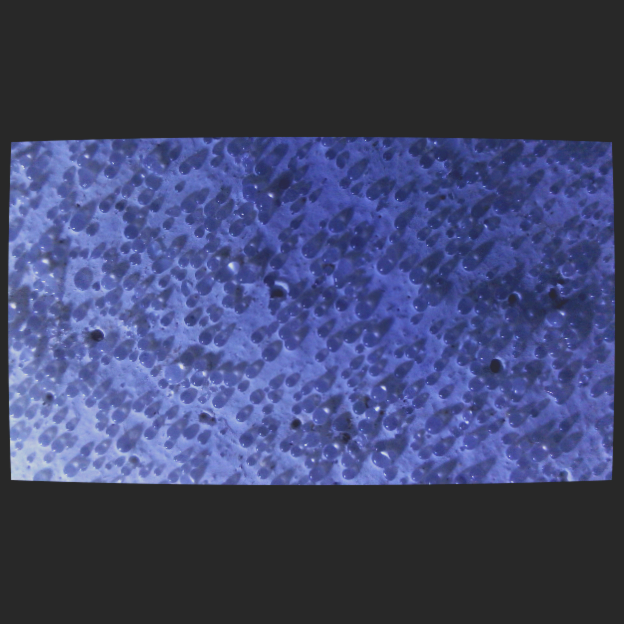GrassBeadSeg: (13, 145, 595, 440), (75, 155, 588, 459), (83, 182, 579, 470), (75, 154, 469, 476), (128, 136, 610, 362), (45, 163, 432, 436), (31, 204, 550, 402), (112, 202, 467, 484), (176, 163, 511, 460), (15, 276, 572, 453), (88, 172, 604, 363), (204, 166, 607, 401), (56, 187, 562, 369), (113, 202, 476, 445), (141, 178, 423, 481), (128, 152, 606, 329), (202, 137, 525, 393), (148, 179, 506, 408), (210, 145, 598, 356), (197, 257, 554, 483), (299, 203, 596, 474), (66, 172, 416, 397), (96, 201, 427, 419), (363, 187, 601, 476), (120, 212, 562, 366), (77, 318, 570, 456), (47, 151, 449, 315), (109, 159, 364, 415), (38, 213, 302, 458), (226, 224, 513, 445), (158, 159, 506, 340), (244, 168, 520, 395), (178, 199, 433, 435), (275, 136, 581, 328), (379, 139, 600, 403), (136, 193, 436, 385), (213, 194, 533, 372), (109, 152, 586, 271), (130, 224, 398, 431), (257, 213, 490, 437), (195, 263, 554, 404), (190, 193, 373, 462), (114, 145, 505, 270), (197, 302, 518, 449), (42, 263, 614, 343), (392, 190, 601, 398), (202, 136, 599, 245), (191, 298, 498, 433), (331, 196, 601, 346), (212, 158, 529, 285), (201, 219, 600, 316), (164, 248, 609, 331), (104, 346, 495, 437), (190, 196, 507, 300), (189, 166, 497, 268), (347, 359, 587, 484), (193, 260, 322, 481), (183, 146, 542, 225), (381, 152, 518, 357), (340, 247, 468, 463), (237, 329, 446, 455), (164, 372, 570, 435), (114, 338, 337, 452), (331, 201, 590, 298), (326, 219, 479, 383), (173, 151, 297, 348), (322, 150, 396, 479), (36, 388, 447, 447), (351, 263, 468, 470), (56, 149, 545, 198), (130, 187, 307, 322), (361, 221, 568, 331), (67, 152, 596, 195), (180, 394, 519, 461), (171, 180, 448, 259), (512, 194, 604, 430), (121, 225, 277, 362), (443, 244, 534, 474), (66, 186, 504, 232), (49, 246, 462, 294), (238, 218, 441, 312), (30, 241, 494, 280), (541, 188, 600, 459), (85, 255, 164, 455), (416, 156, 482, 392), (360, 332, 522, 427), (177, 258, 284, 401), (391, 217, 527, 327), (209, 370, 374, 458), (66, 385, 266, 457), (372, 301, 467, 451), (251, 274, 564, 319), (32, 168, 294, 221), (99, 152, 200, 273), (340, 413, 519, 480), (346, 237, 394, 471), (74, 187, 182, 290), (370, 355, 476, 450), (481, 180, 613, 255), (211, 372, 311, 467), (27, 155, 116, 261), (442, 331, 562, 404), (203, 281, 350, 340), (52, 150, 164, 225), (308, 400, 406, 484), (173, 160, 298, 225), (542, 281, 610, 391), (356, 143, 490, 197), (77, 329, 181, 396), (93, 410, 188, 481), (166, 417, 268, 482), (163, 281, 202, 448), (64, 389, 191, 440), (180, 364, 268, 437), (431, 224, 474, 372), (289, 328, 384, 394), (290, 405, 389, 468), (410, 374, 589, 408), (493, 182, 521, 394), (63, 338, 148, 407), (442, 204, 516, 283), (447, 142, 503, 238), (249, 150, 361, 198), (398, 405, 466, 484), (204, 397, 294, 456), (254, 370, 321, 448), (244, 309, 300, 400), (121, 280, 193, 347), (234, 268, 515, 285), (143, 385, 205, 461), (10, 415, 122, 456), (249, 277, 319, 342), (481, 303, 603, 340), (64, 440, 184, 477), (487, 380, 541, 462), (353, 297, 382, 444), (11, 307, 80, 368), (403, 145, 419, 401), (521, 333, 550, 464), (483, 220, 519, 322), (121, 192, 171, 264), (410, 397, 484, 445), (255, 417, 313, 478), (422, 185, 558, 211), (264, 160, 347, 202), (9, 162, 66, 223), (119, 383, 159, 469), (138, 279, 216, 323), (276, 258, 476, 275), (465, 230, 537, 277), (349, 156, 435, 195), (15, 307, 53, 394), (344, 159, 496, 180), (346, 393, 423, 434), (552, 359, 588, 446), (9, 389, 51, 463), (72, 422, 129, 476), (38, 242, 115, 281), (262, 268, 324, 316), (52, 309, 106, 361), (99, 328, 157, 376), (319, 344, 376, 392), (469, 303, 484, 480), (301, 401, 362, 444), (473, 145, 562, 174), (103, 292, 138, 361), (583, 362, 611, 446), (11, 249, 108, 272), (289, 205, 361, 234), (294, 150, 347, 189), (235, 141, 264, 212), (231, 152, 262, 217), (151, 268, 187, 323), (549, 441, 608, 474), (344, 431, 424, 455), (411, 276, 441, 339), (236, 141, 277, 186), (527, 330, 567, 376), (314, 307, 373, 338), (286, 275, 359, 300), (301, 407, 336, 459), (62, 319, 106, 360), (96, 395, 121, 467), (345, 328, 375, 387), (220, 391, 278, 421), (325, 228, 353, 288), (286, 350, 325, 393), (560, 239, 603, 277), (353, 244, 382, 299), (26, 256, 61, 300), (207, 236, 291, 254), (304, 443, 363, 466), (317, 224, 395, 241), (530, 388, 551, 450), (113, 177, 144, 218), (52, 421, 75, 476), (263, 279, 297, 316), (29, 203, 63, 240), (139, 352, 179, 383), (58, 175, 90, 213), (130, 380, 167, 412), (205, 260, 235, 299), (409, 294, 439, 333), (176, 226, 204, 267), (301, 407, 328, 447), (32, 300, 85, 320), (13, 442, 63, 463), (25, 168, 92, 183), (17, 386, 47, 419), (152, 348, 203, 367), (205, 244, 256, 263), (497, 343, 516, 392), (16, 291, 39, 328), (233, 304, 260, 334), (321, 444, 357, 465), (561, 224, 588, 252), (247, 231, 291, 248), (278, 181, 462, 185), (150, 255, 187, 274), (37, 380, 62, 406), (234, 157, 269, 175), (469, 304, 487, 339), (535, 156, 561, 180), (352, 290, 369, 325), (91, 284, 115, 308), (547, 350, 560, 394), (204, 211, 224, 239), (113, 272, 181, 280), (308, 263, 331, 286), (468, 349, 489, 374), (539, 263, 572, 278), (532, 168, 577, 178), (486, 327, 525, 338), (289, 219, 324, 230), (488, 352, 515, 366), (444, 222, 471, 236), (537, 279, 566, 292), (582, 236, 601, 255), (453, 183, 463, 217), (220, 298, 244, 309), (427, 417, 443, 433), (550, 330, 573, 341), (194, 282, 210, 296), (566, 154, 577, 173), (166, 426, 179, 442), (473, 140, 488, 152), (224, 140, 235, 156), (115, 171, 140, 178), (508, 365, 517, 384), (277, 326, 291, 338), (76, 176, 90, 188), (38, 239, 52, 251), (475, 351, 487, 364), (460, 438, 474, 449), (374, 238, 396, 245), (456, 217, 469, 228), (558, 343, 578, 350), (540, 466, 553, 476), (525, 176, 536, 187), (342, 285, 351, 298), (548, 345, 558, 356), (566, 334, 576, 345), (445, 215, 456, 225), (551, 391, 560, 403), (166, 433, 179, 440), (102, 282, 115, 289), (460, 306, 470, 314), (517, 333, 528, 340), (449, 334, 456, 344), (515, 459, 522, 467), (24, 175, 35, 180), (61, 172, 66, 182), (477, 340, 488, 344), (265, 185, 269, 195), (368, 388, 372, 398), (276, 193, 283, 198), (267, 195, 275, 199), (280, 185, 284, 192), (372, 397, 381, 400)
